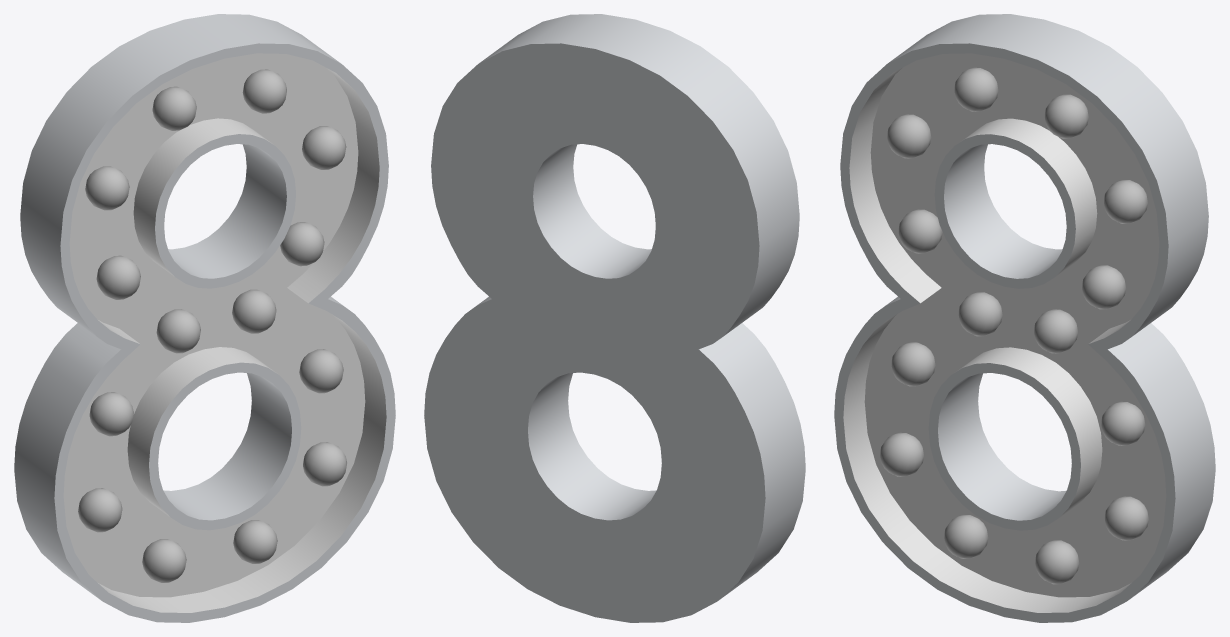
File: LettersBulb01_8.FBX
The picture shows the model from 3 angles, left to right: view 1: azimuth 30°, elevation 25°; view 2: azimuth 150°, elevation 25°; view 3: azimuth 330°, elevation 25°; orthographic projection.
Parts seen in each view (by area): view 1: LettersBulb01_8; view 2: LettersBulb01_8; view 3: LettersBulb01_8.
Part boxes in pixels (box(x1,y1,x2,y2)): LettersBulb01_8: box(14, 14, 395, 622); LettersBulb01_8: box(424, 14, 805, 622); LettersBulb01_8: box(834, 14, 1215, 622).
Size of what is drawn, in the model's own units: 0.7613 by 1.21 by 0.1563.
